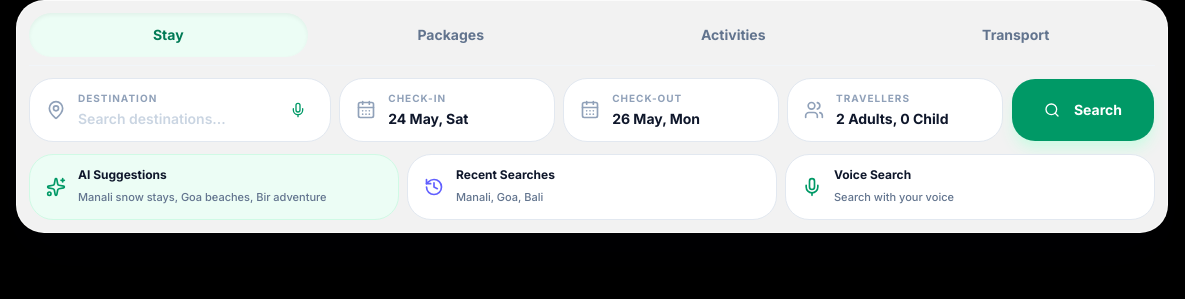
EnhancedSearchBar › shows map suggestions while typing a destination
The image size is (1185, 299).
In the field with placeholder "Search destinations...": (174, 118) [78,108,270,128], type "del"
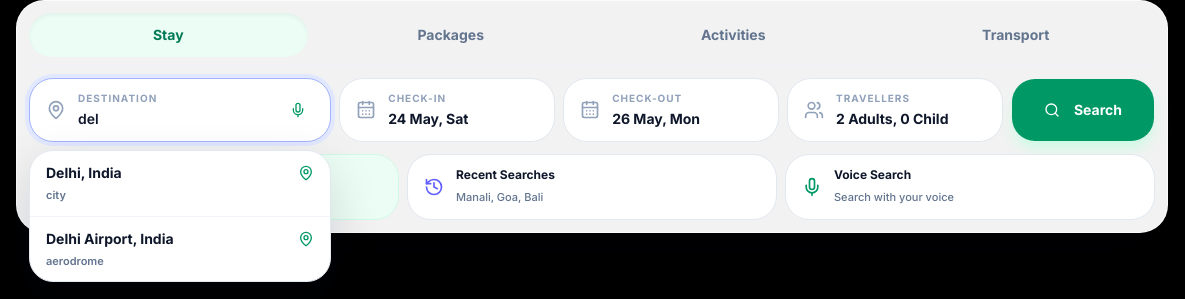
Check: the button "Delhi, India city" is shown, box [30,151,330,216]
